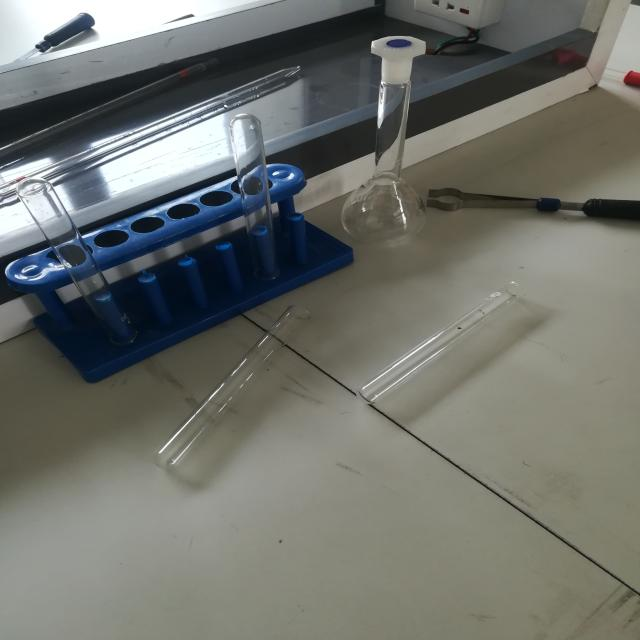TestTube_Holder: (428, 170, 640, 256)
Test_Tube: (0, 127, 163, 370), (136, 289, 306, 502), (340, 273, 540, 426), (188, 105, 304, 305)
Volumetric_Flask: (334, 7, 449, 267)
